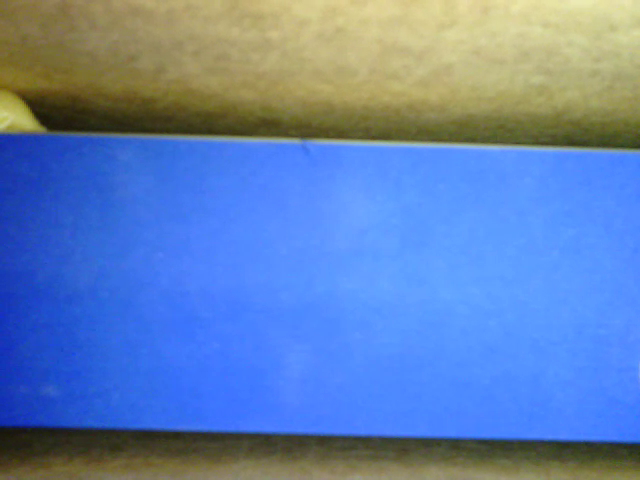shell: (1, 87, 48, 133)
